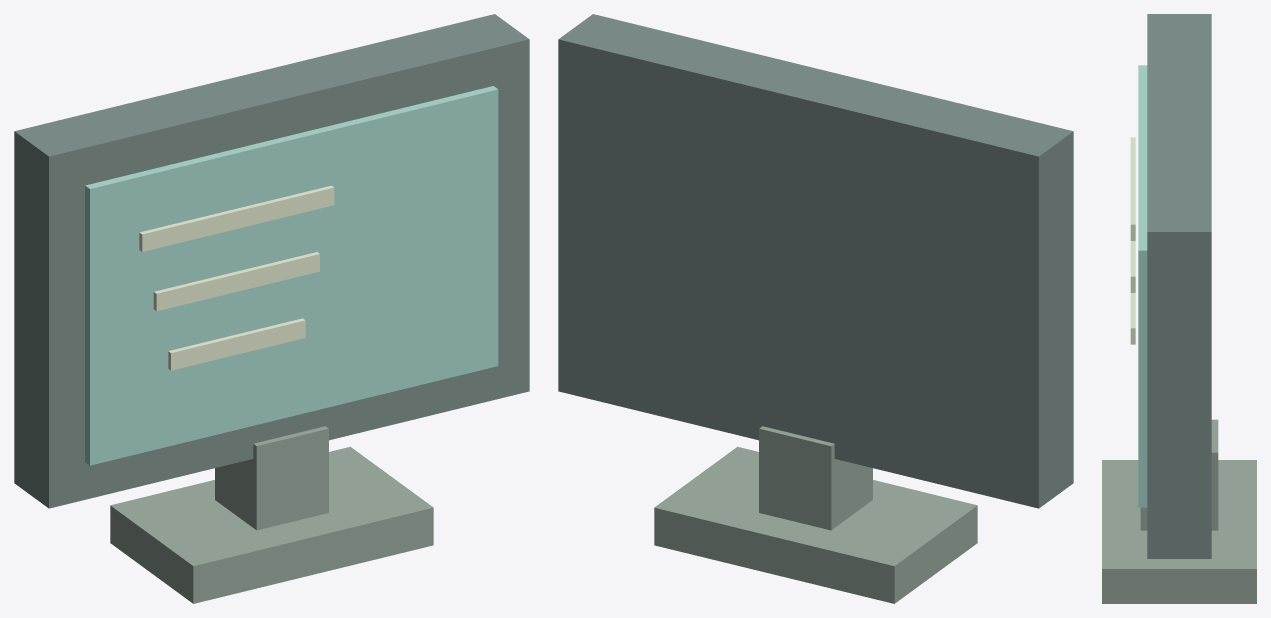
Rendered from project_device.glb.
The picture shows the model from 3 angles, left to right: view 1: azimuth 30°, elevation 25°; view 2: azimuth 150°, elevation 25°; view 3: azimuth 270°, elevation 25°; orthographic projection. The views are drawn at different scales.
Parts seen in each view (by area): view 1: screen, device, foot, code (×3), stand; view 2: device, foot, stand; view 3: device, foot, screen, code (×3), stand.
Boxes of the visible parts, x1=… form: screen: x1=85, y1=86, x2=498, y2=465; device: x1=14, y1=14, x2=529, y2=508; foot: x1=110, y1=446, x2=433, y2=603; code (×3): x1=139, y1=185, x2=334, y2=370; stand: x1=215, y1=426, x2=328, y2=530; device: x1=558, y1=14, x2=1073, y2=508; foot: x1=654, y1=446, x2=977, y2=603; stand: x1=759, y1=426, x2=872, y2=530; device: x1=1147, y1=14, x2=1211, y2=558; foot: x1=1102, y1=460, x2=1256, y2=603; screen: x1=1138, y1=65, x2=1147, y2=507; code (×3): x1=1130, y1=137, x2=1135, y2=344; stand: x1=1140, y1=419, x2=1218, y2=530.
Bounding box in the file's own units: 2 × 1.82 × 0.6.
